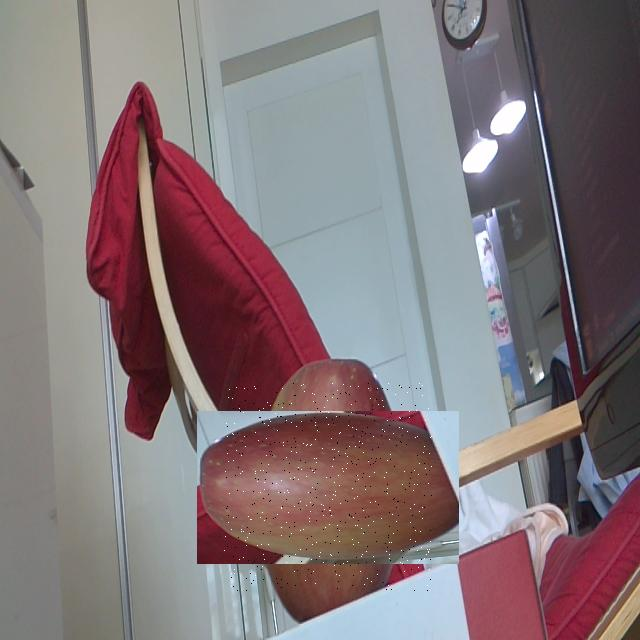apple: (224, 383, 432, 591)
